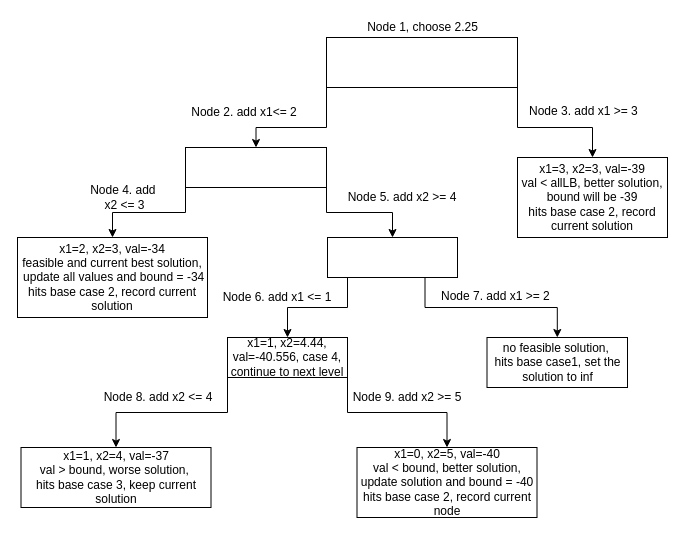
The diagram is 685 pixels wide and 543 high, and some of its shapes have lost their labels. Each missing label, with the centre of its shape:
Initial relaxation solution: x1=2.25,x2=3.75,val=-41.25 allLB = inf: (422,62)
x1=1.8, x2=4, val=-41, case 4, continue to next level: (392,257)
x1=2, x2=3.889, val=-41.111, case 4, continue to next level: (255,167)
